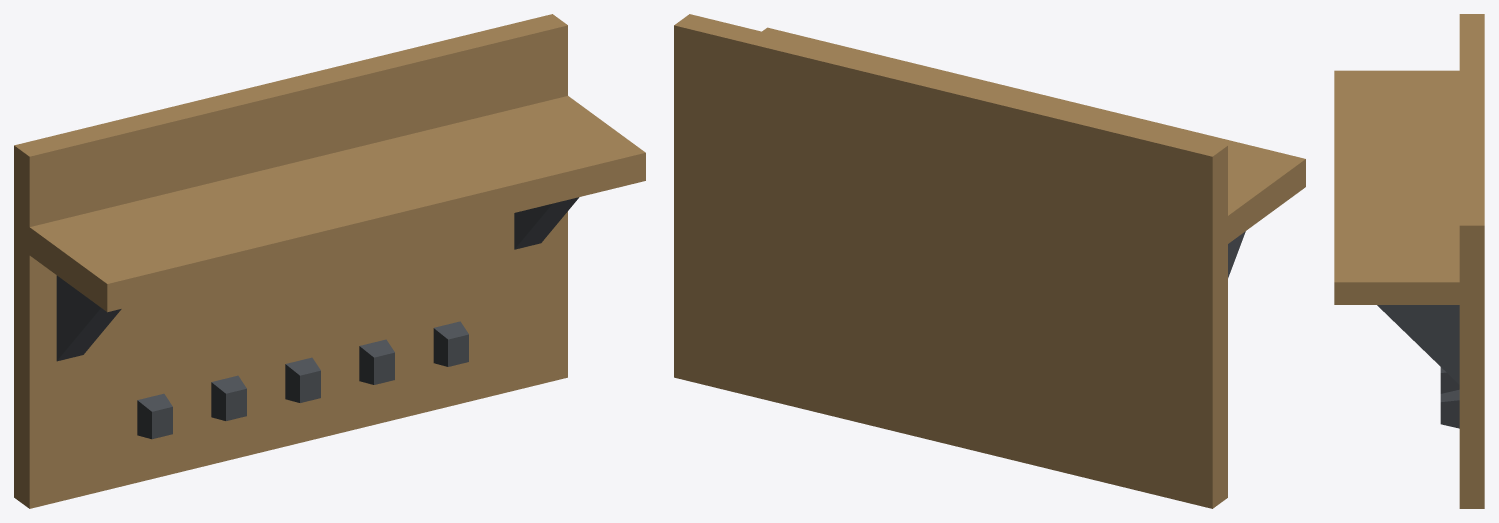
File: coat_rack.glb
3 renders of one model, left to right at view 1: azimuth 30°, elevation 25°; view 2: azimuth 150°, elevation 25°; view 3: azimuth 270°, elevation 25°, orthographic. The views are drawn at different scales.
Parts seen in each view (by area): view 1: coat_rack; view 2: coat_rack; view 3: coat_rack.
Part boxes in pixels (left/top/right/bottom): coat_rack: left=14, top=14, right=645, bottom=508; coat_rack: left=674, top=14, right=1305, bottom=508; coat_rack: left=1334, top=14, right=1484, bottom=508.
Size of the model in its own units: 0.9 by 0.5625 by 0.27.
